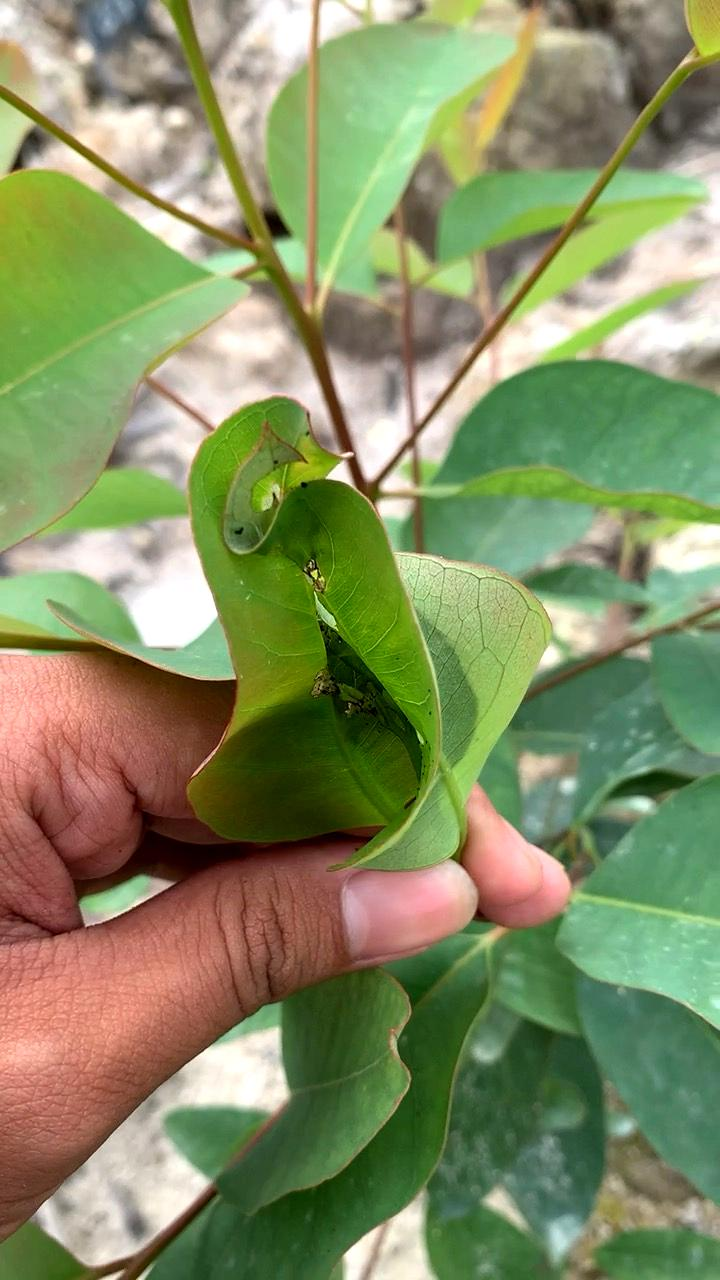Leaf Roller - Leaf: (153, 386, 560, 904)
